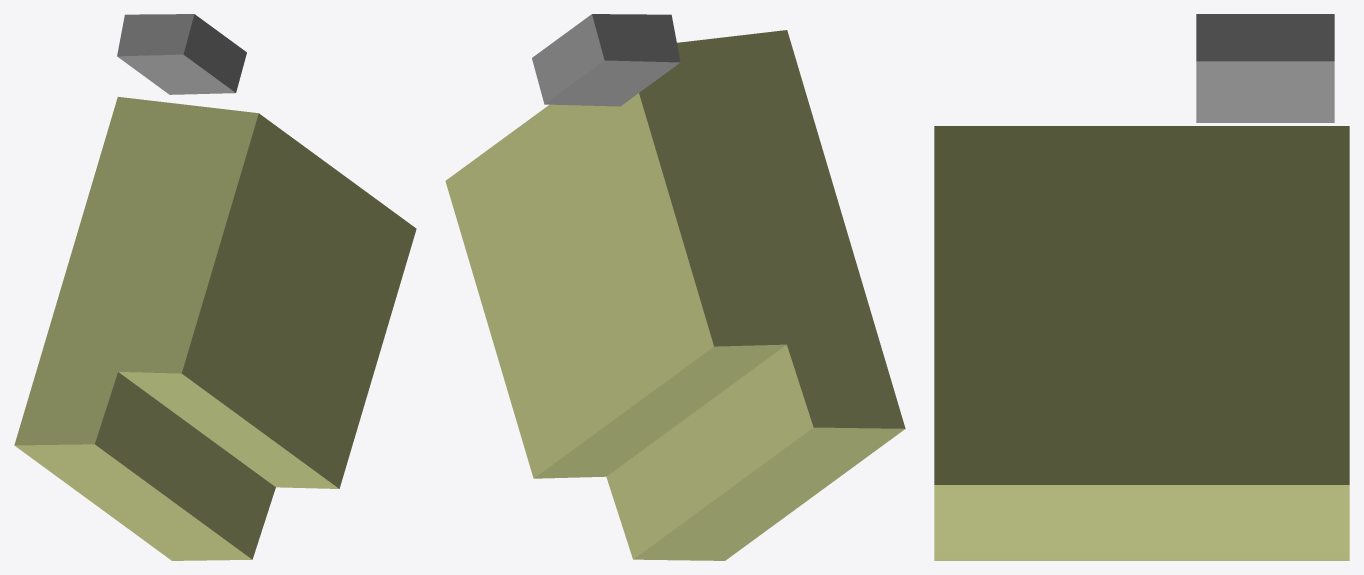
The picture shows the model from 3 angles, left to right: view 1: azimuth 30°, elevation 25°; view 2: azimuth 150°, elevation 25°; view 3: azimuth 270°, elevation 25°; orthographic projection. The views are drawn at different scales.
Parts seen in each view (by area): view 1: 0_1_1_3_3_1_0_2_2_2_1; view 2: 0_1_1_3_3_1_0_2_2_2_1; view 3: 0_1_1_3_3_1_0_2_2_2_1.
Boxes of the visible parts, x1,y1,x2,y2 form: 0_1_1_3_3_1_0_2_2_2_1: [14, 14, 416, 560]; 0_1_1_3_3_1_0_2_2_2_1: [445, 14, 905, 560]; 0_1_1_3_3_1_0_2_2_2_1: [934, 14, 1349, 560].
Bounding box in the file's own units: 8.05 × 13.46 × 9.
